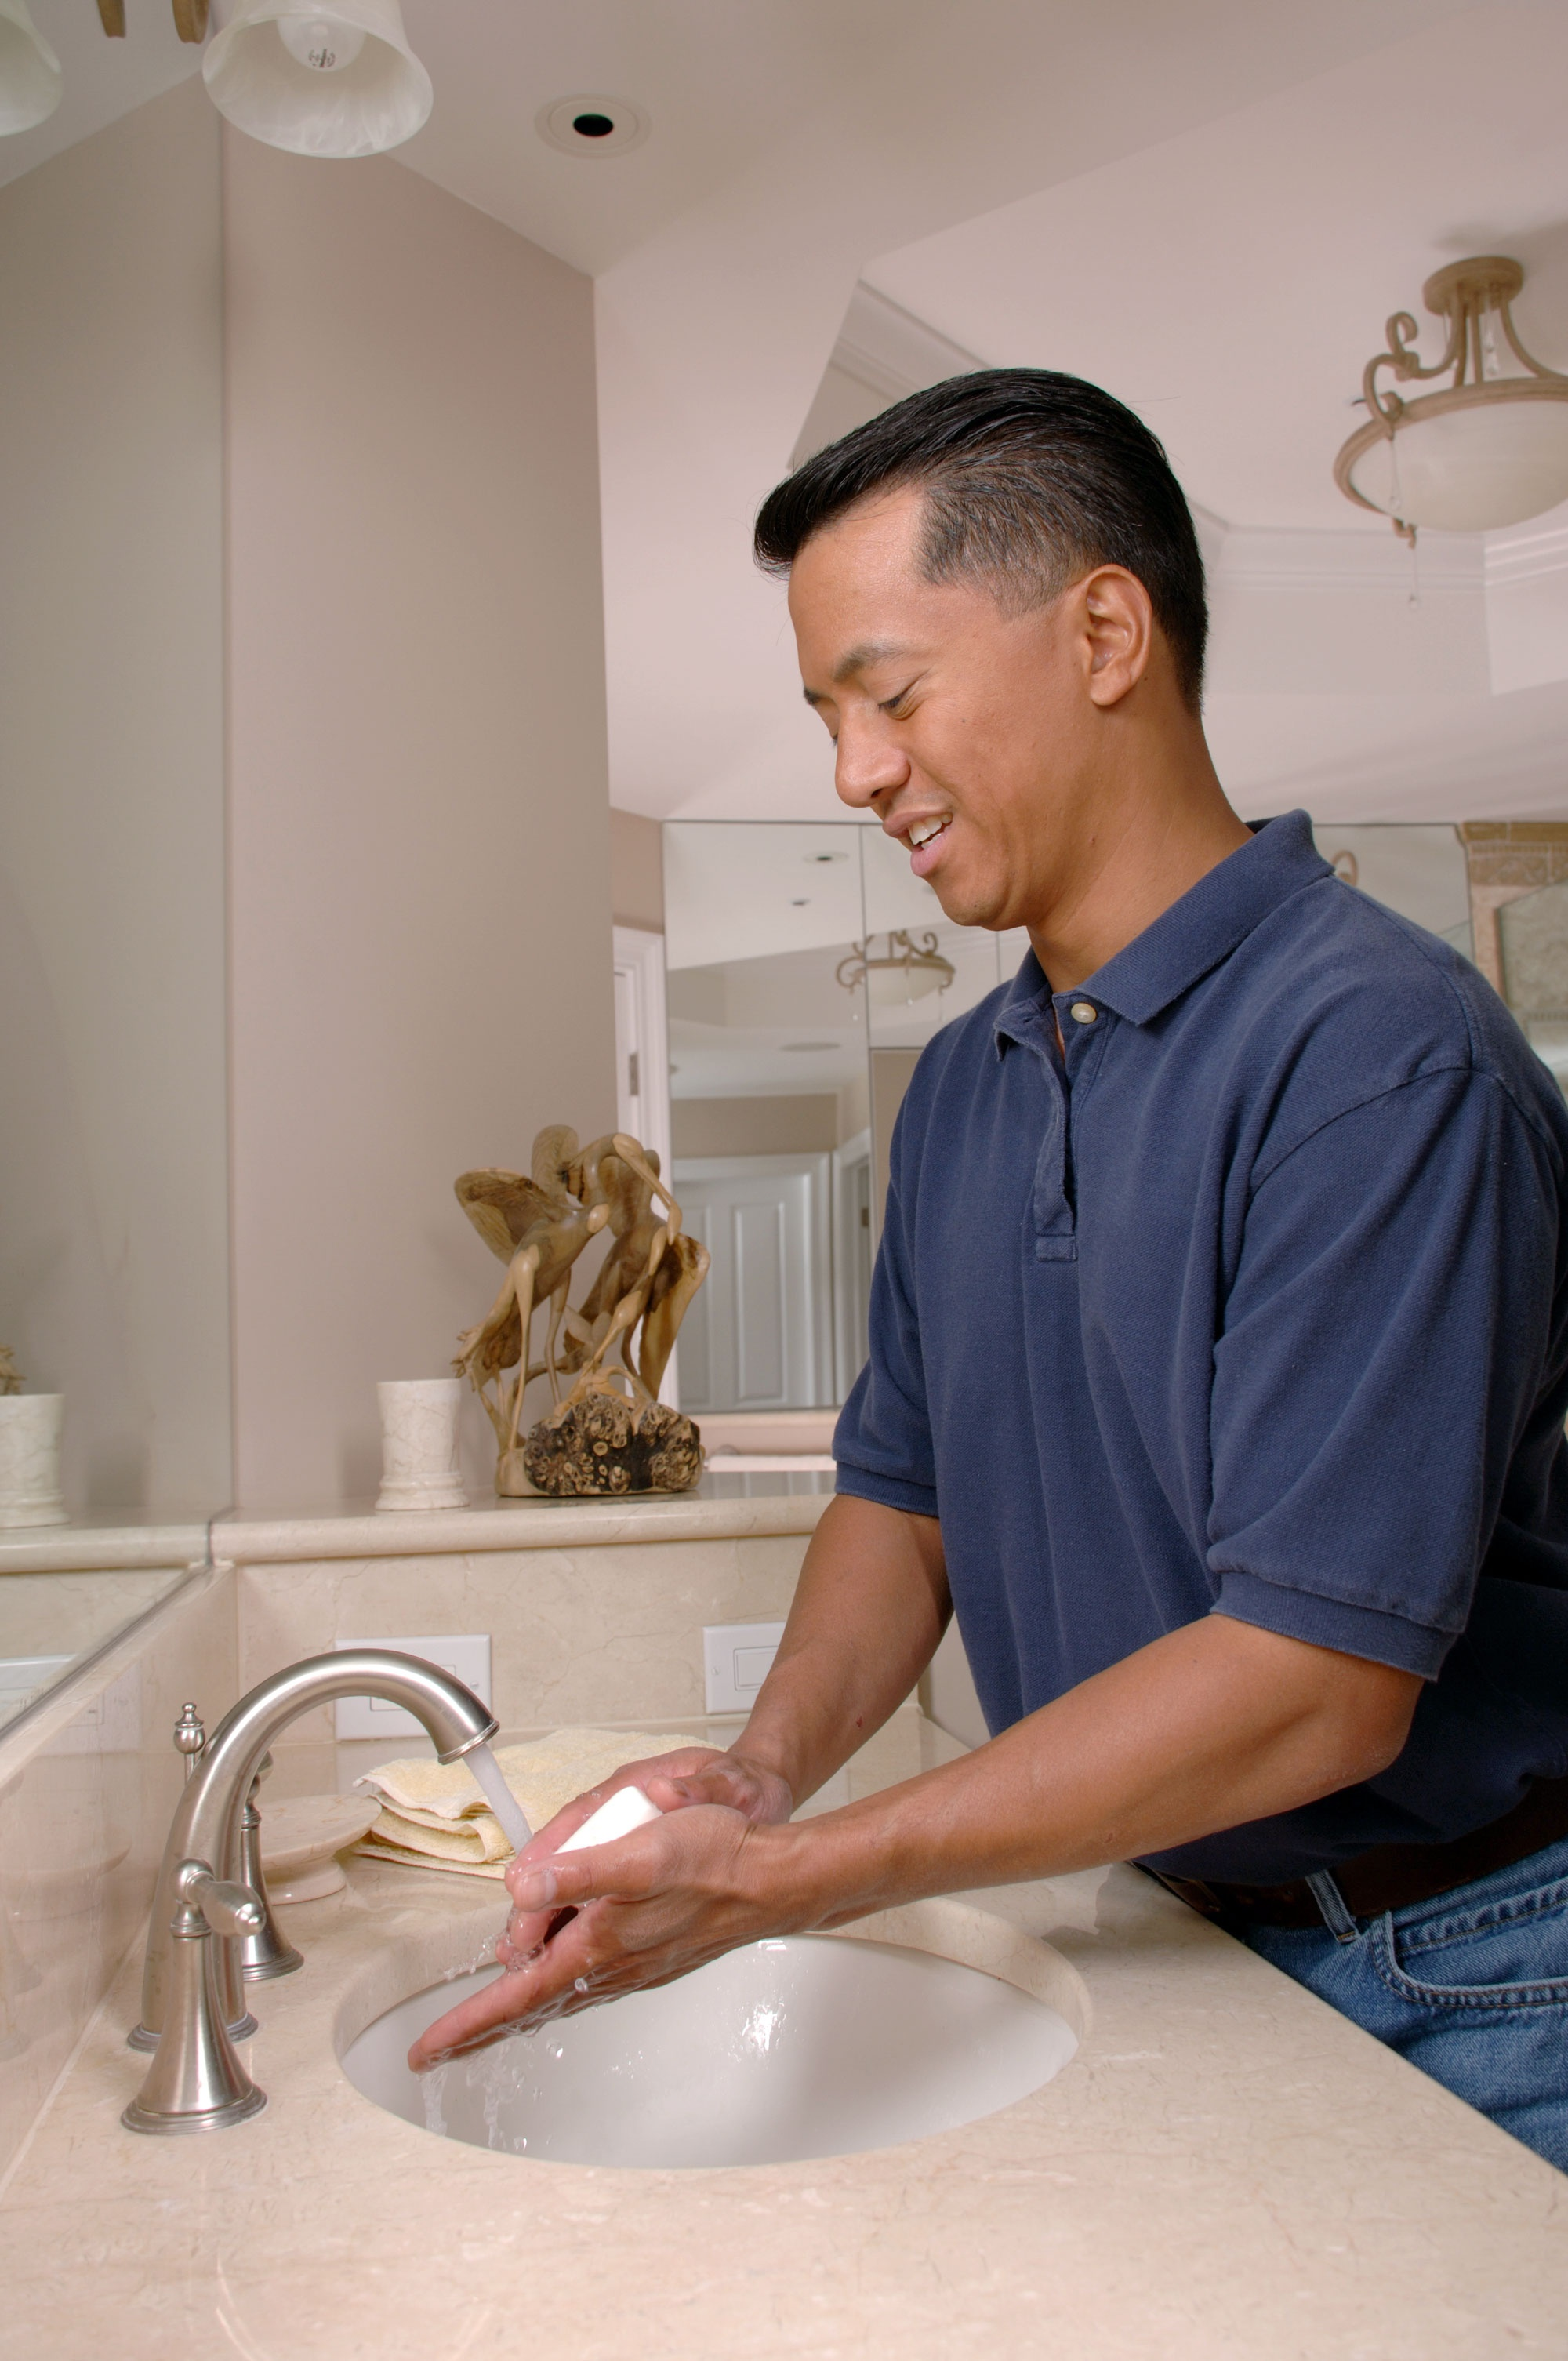washing hand: (114, 1489, 772, 2126)
